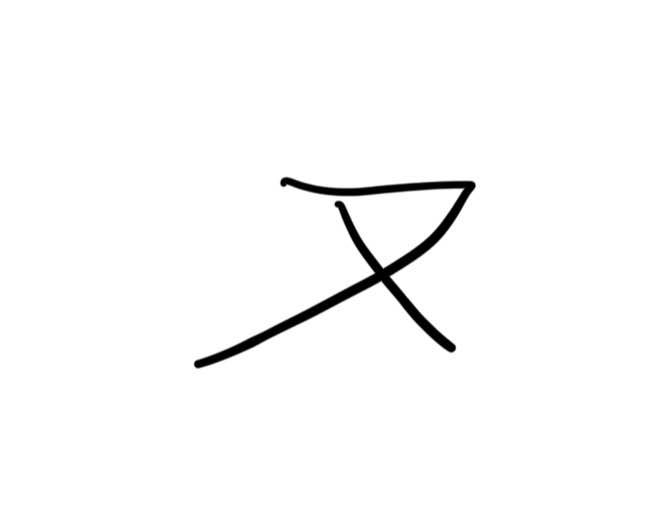nu: (184, 170, 484, 372)
